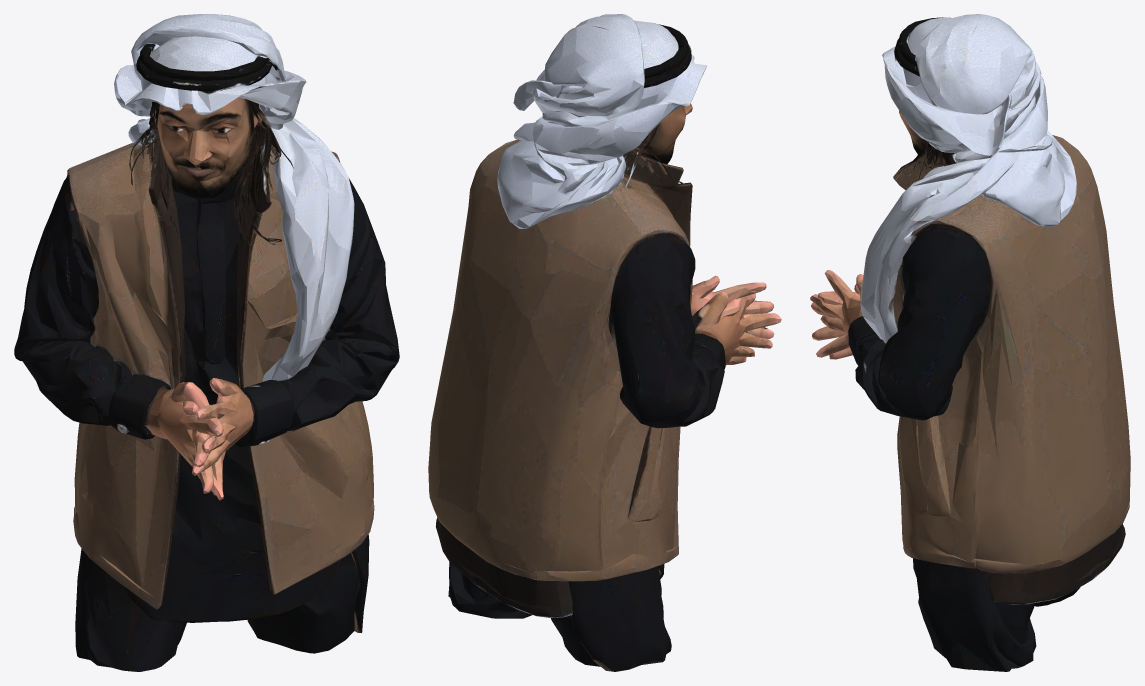
3 renders of one model, left to right at view 1: azimuth 30°, elevation 25°; view 2: azimuth 150°, elevation 25°; view 3: azimuth 270°, elevation 25°, orthographic. The views are drawn at different scales.
Size of the model in its own units: 0.9571 by 1.9 by 0.951.
Materials: 1 (1 with a texture image).
